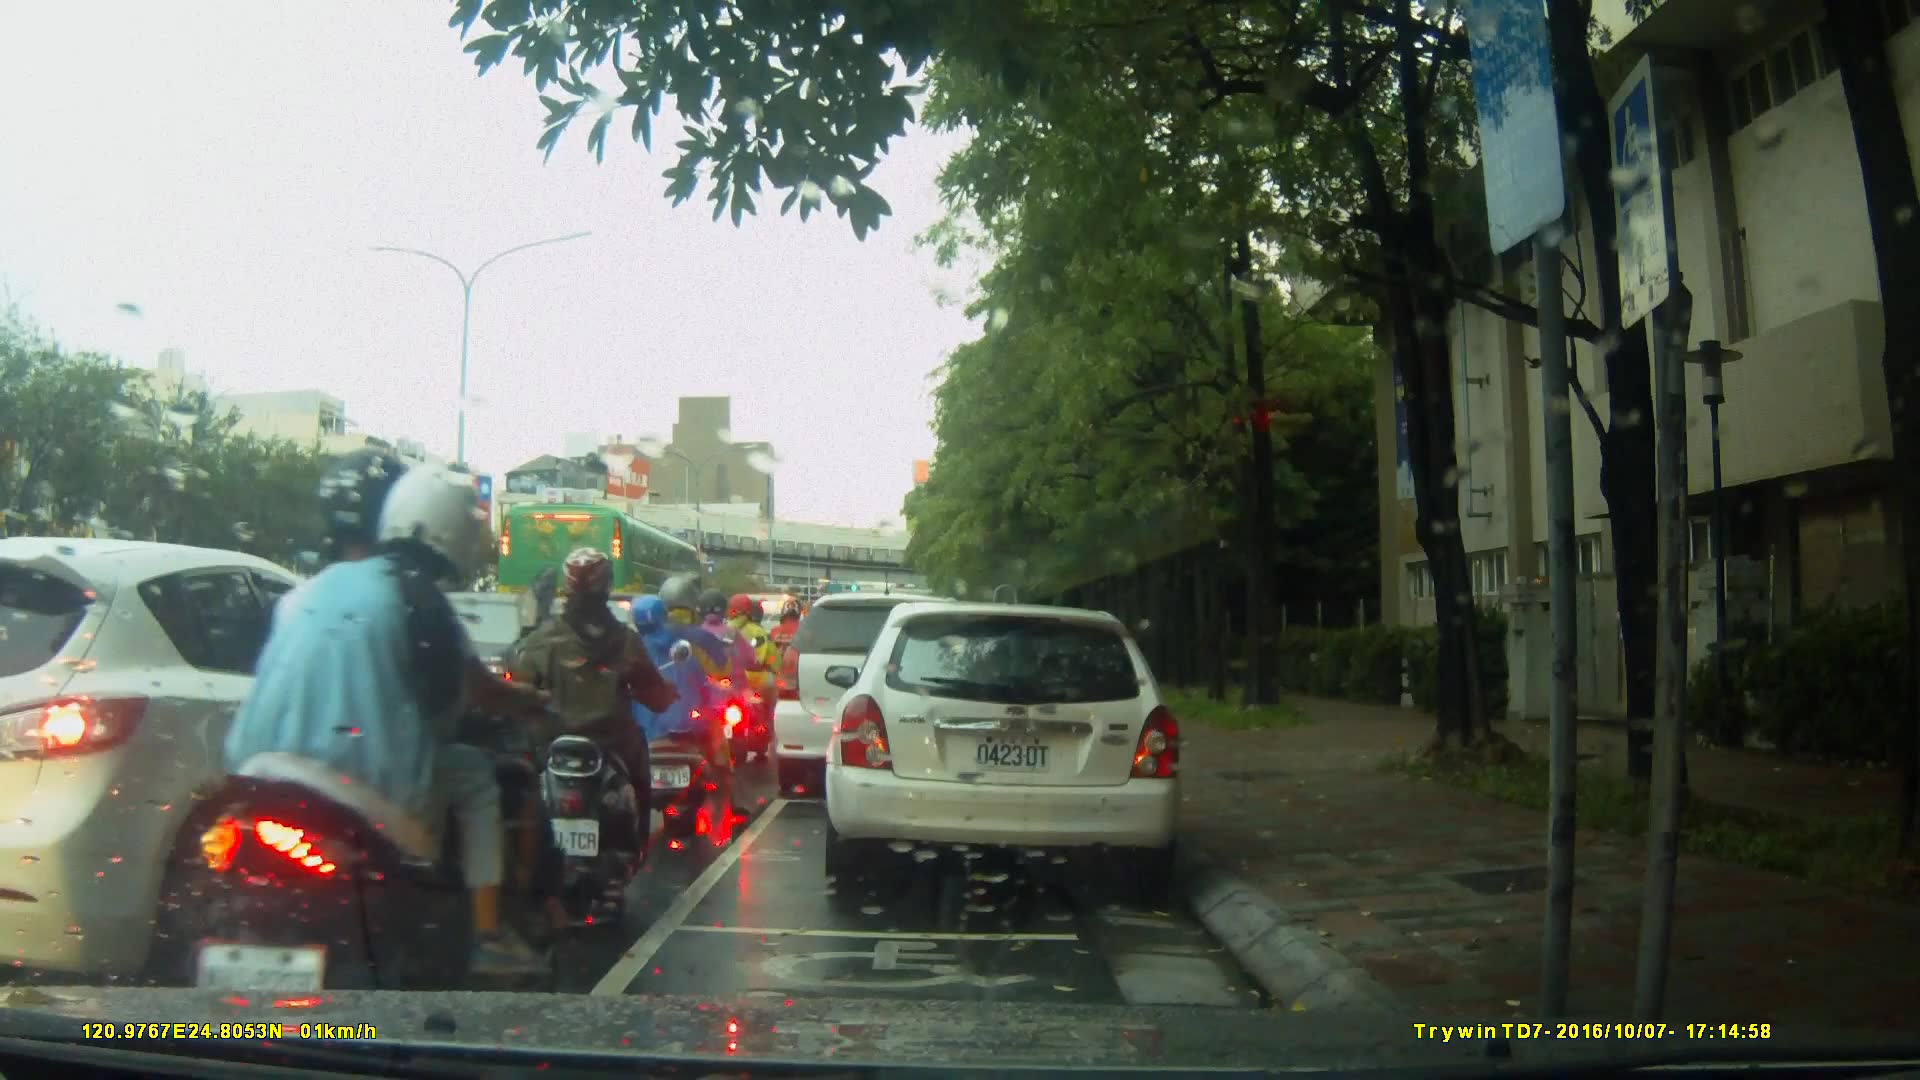rider: (172, 451, 564, 1029), (517, 544, 690, 919), (630, 582, 717, 825), (689, 594, 760, 771), (726, 596, 792, 760), (770, 596, 815, 729)
vehicle: (4, 535, 466, 988), (831, 592, 1196, 897), (312, 589, 629, 776), (771, 590, 999, 804), (501, 503, 709, 636)
